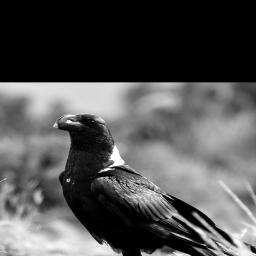Crow: (47, 110, 242, 256)
